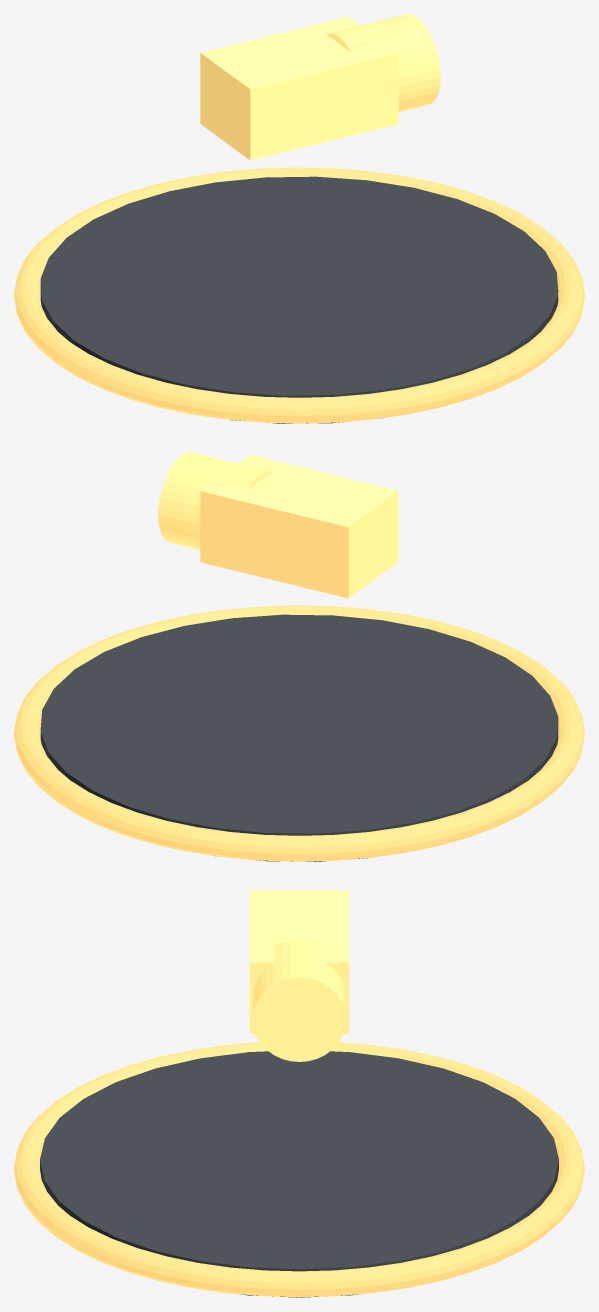
Rendered from channel_vms.glb.
3 views of the same model, one above another, from view 1: azimuth 30°, elevation 25°; view 2: azimuth 150°, elevation 25°; view 3: azimuth 270°, elevation 25° (orthographic).
Visible parts, largest first — view 1: vms_base, vms_emblem, vms_glow; view 2: vms_base, vms_emblem, vms_glow; view 3: vms_base, vms_glow, vms_emblem.
Part boxes in pixels (<box>): vms_base: <box>40,176,558,423</box>; vms_emblem: <box>200,14,440,160</box>; vms_glow: <box>14,167,584,423</box>; vms_base: <box>40,614,558,861</box>; vms_emblem: <box>158,452,398,598</box>; vms_glow: <box>14,605,584,861</box>; vms_base: <box>40,1051,558,1297</box>; vms_glow: <box>14,1042,584,1297</box>; vms_emblem: <box>249,890,349,1061</box>.
Size of the model in its own units: 2.2 by 1.14 by 2.2.
